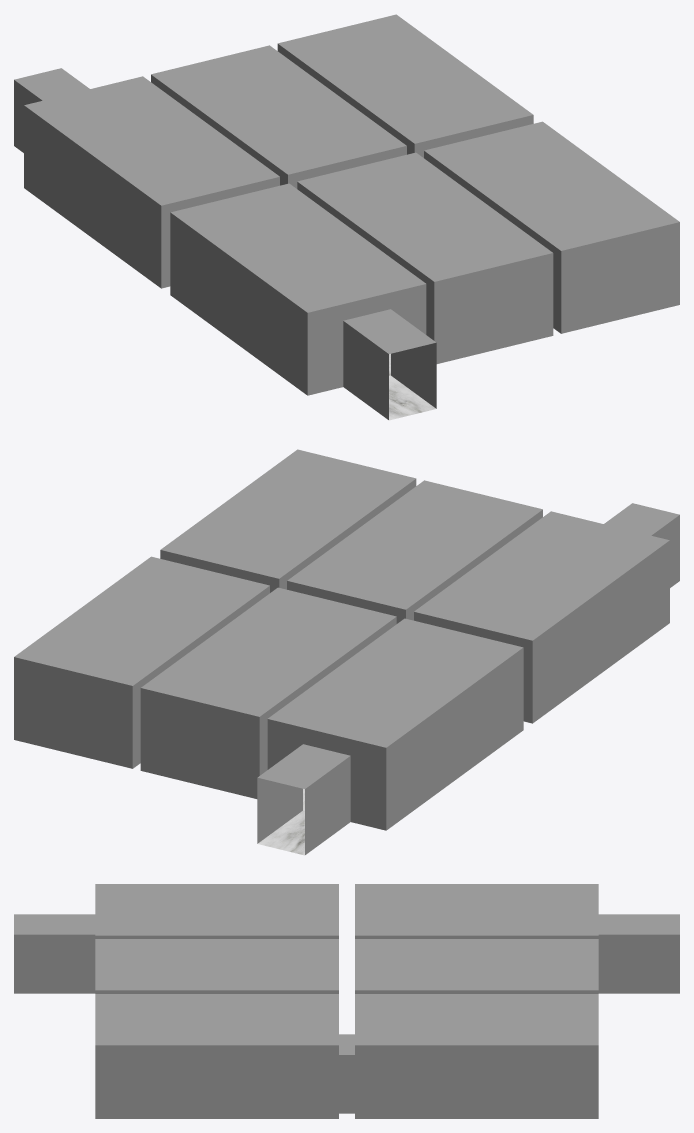
The model's file is zagGallery1.fbx.
The picture shows the model from 3 angles, top to bottom: view 1: azimuth 30°, elevation 25°; view 2: azimuth 150°, elevation 25°; view 3: azimuth 270°, elevation 25°; orthographic projection. The views are drawn at different scales.
Visible parts, largest first — view 1: pCube19; view 2: pCube19; view 3: pCube19.
Part boxes in pixels (left/top/right/bottom): pCube19: left=14, top=14, right=679, bottom=420; pCube19: left=14, top=449, right=679, bottom=855; pCube19: left=14, top=884, right=679, bottom=1118.
Size of the model in its own units: 47 by 10 by 82.
2 materials, 1 textured.
